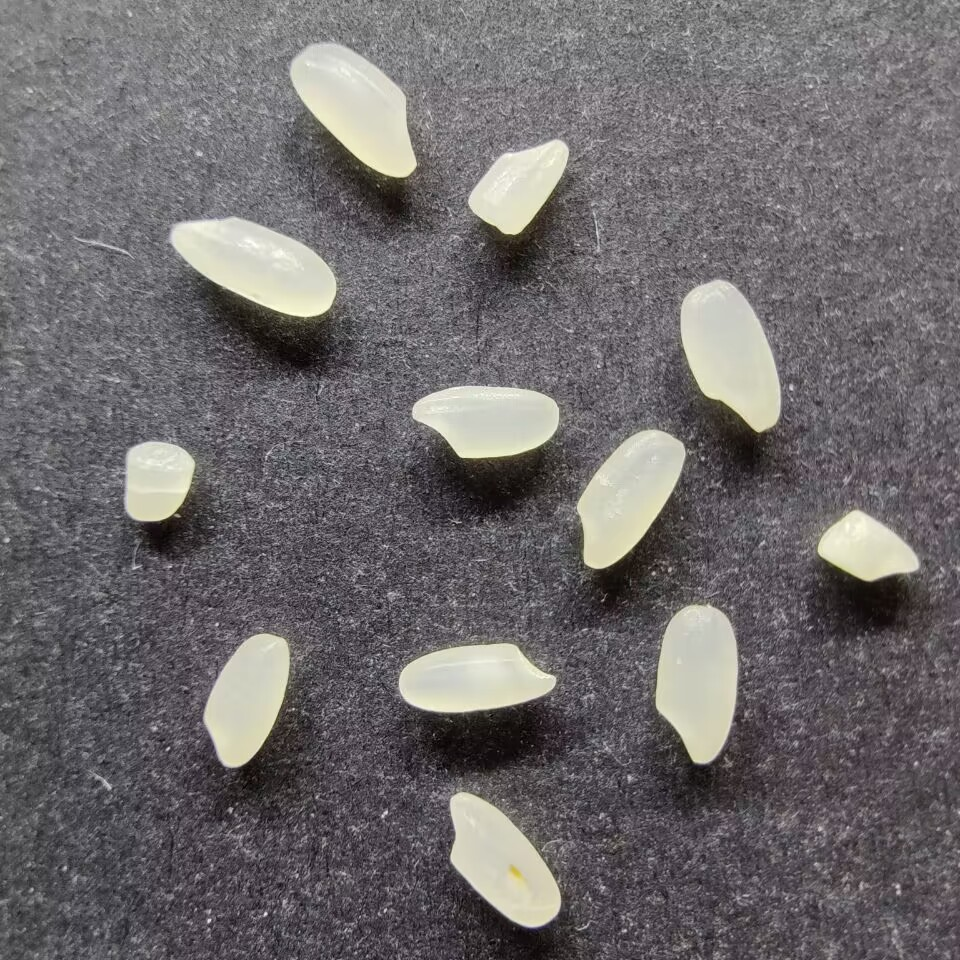broken: (467, 137, 569, 235), (816, 510, 919, 582), (124, 441, 194, 522)
rice: (288, 41, 417, 178), (169, 216, 335, 316), (679, 279, 781, 432), (448, 791, 561, 929), (575, 429, 686, 569), (654, 604, 737, 765), (202, 632, 289, 768), (409, 385, 559, 459), (398, 643, 556, 713)
